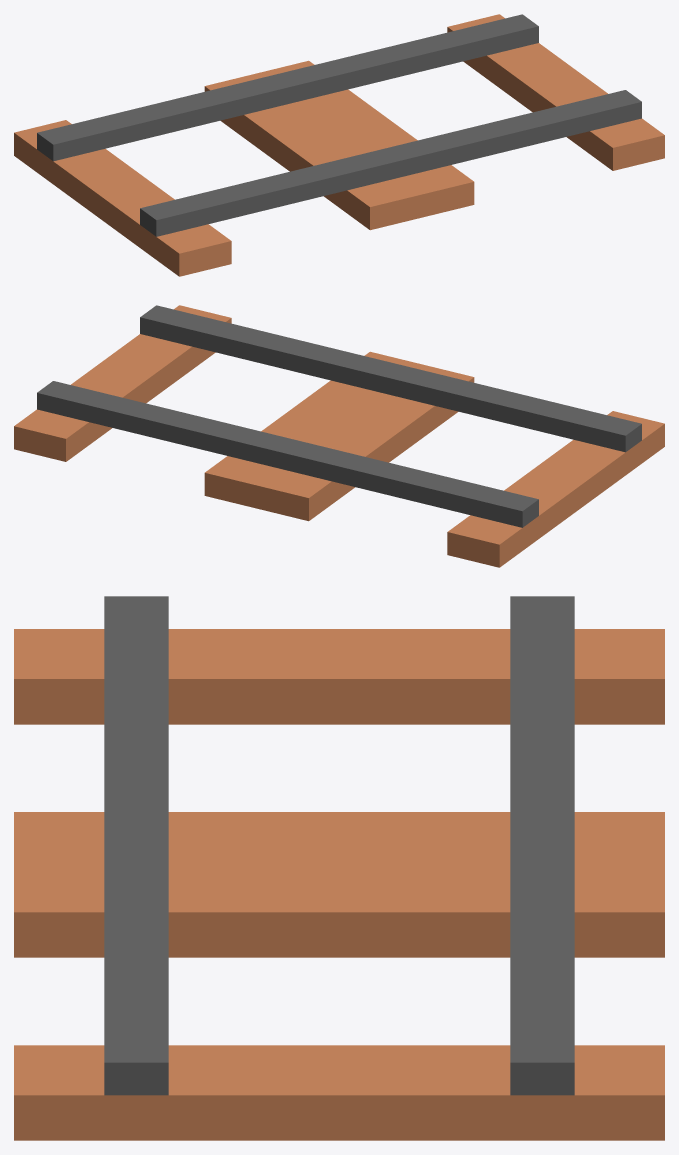
Rendered from trackStraight.obj.
3 renders of one model, top to bottom at view 1: azimuth 30°, elevation 25°; view 2: azimuth 150°, elevation 25°; view 3: azimuth 270°, elevation 25°, orthographic. The views are drawn at different scales.
Parts seen in each view (by area): view 1: trackStraight; view 2: trackStraight; view 3: trackStraight.
Part boxes in pixels (box(x1,y1,x2,y2)): trackStraight: box(14, 14, 664, 276); trackStraight: box(14, 305, 664, 567); trackStraight: box(14, 596, 664, 1140).
Size of the model in its own units: 0.308 by 0.0241 by 0.1817.
